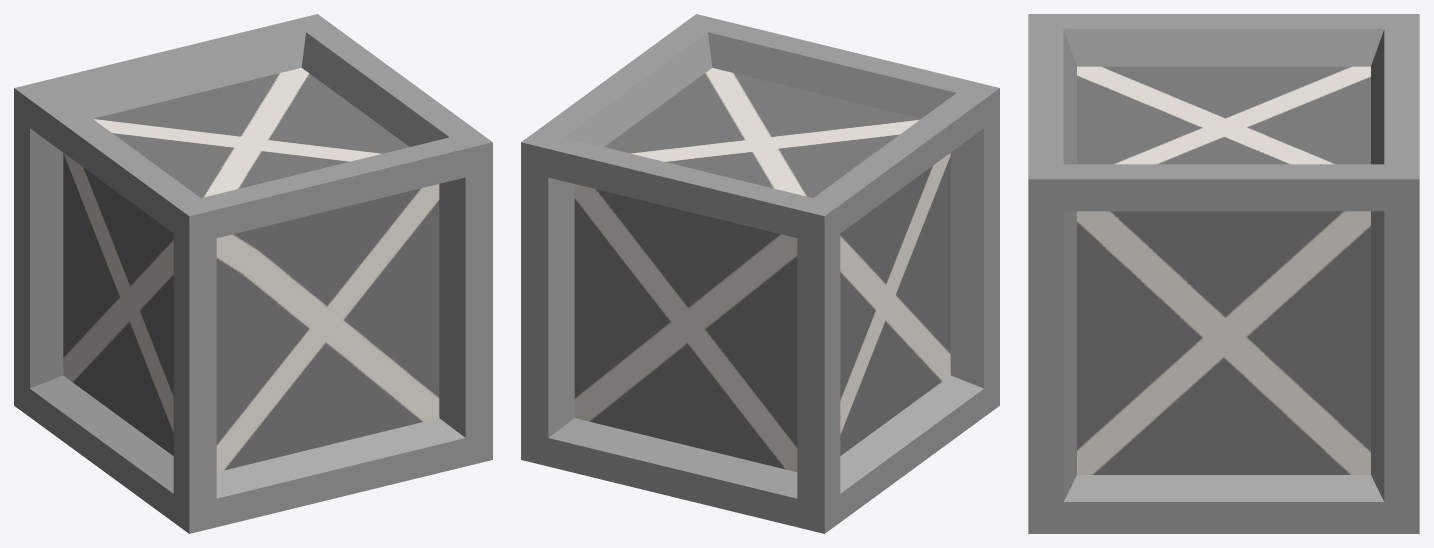
File: blockIron.obj
3 renders of one model, left to right at view 1: azimuth 30°, elevation 25°; view 2: azimuth 150°, elevation 25°; view 3: azimuth 270°, elevation 25°, orthographic. The views are drawn at different scales.
Visible parts, largest first — view 1: blockCrate; view 2: blockCrate; view 3: blockCrate.
Boxes of the visible parts, <box> form: blockCrate: <box>14,14,492,533</box>; blockCrate: <box>521,14,999,533</box>; blockCrate: <box>1028,14,1419,533</box>.
Bounding box in the file's own units: 1 × 1 × 1.
1 material, 1 textured.
